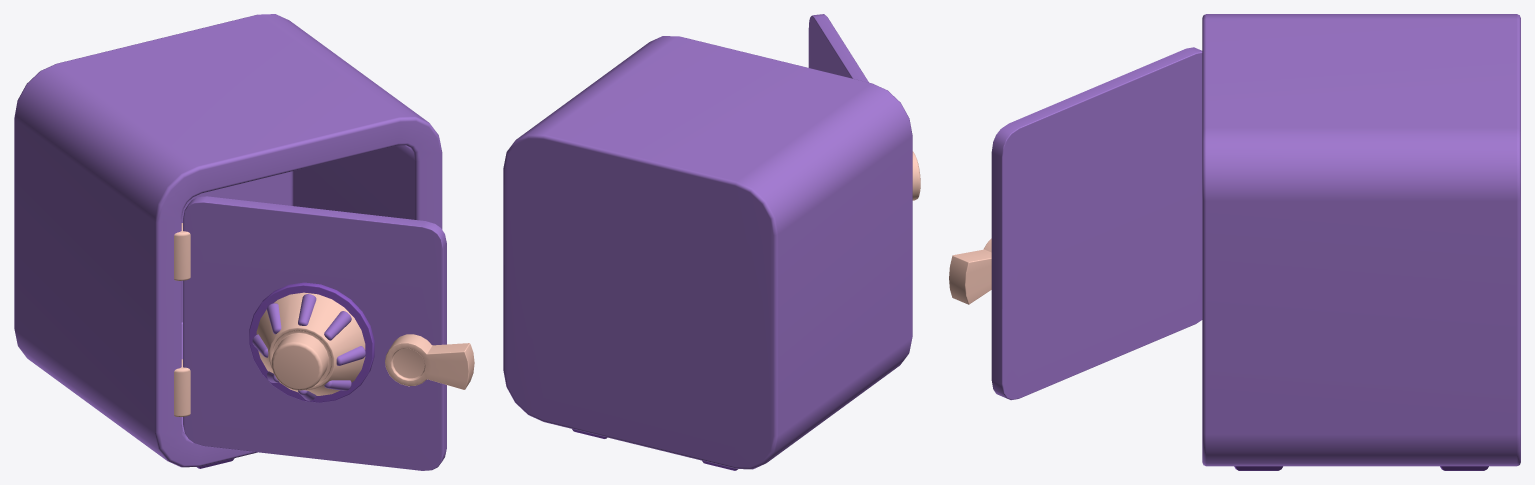
File: Public_1_Safe_2.glb
The picture shows the model from 3 angles, left to right: view 1: azimuth 30°, elevation 25°; view 2: azimuth 150°, elevation 25°; view 3: azimuth 270°, elevation 25°; orthographic projection. The views are drawn at different scales.
Parts seen in each view (by area): view 1: Public_1_Safe_2; view 2: Public_1_Safe_2; view 3: Public_1_Safe_2.
Part boxes in pixels (bbox=[...]): Public_1_Safe_2: bbox=[14, 14, 474, 470]; Public_1_Safe_2: bbox=[503, 14, 920, 470]; Public_1_Safe_2: bbox=[949, 14, 1520, 470].
Bounding box in the file's own units: 2.21 × 2.34 × 3.44.
Materials: 1 (1 with a texture image).
